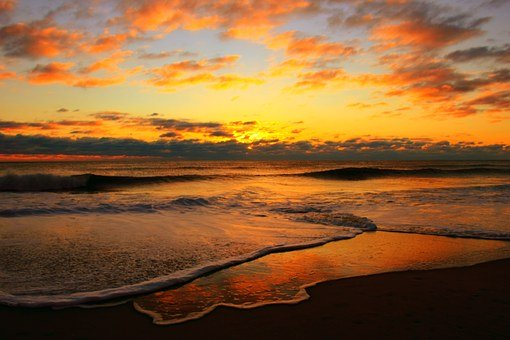sea: (8, 161, 507, 337)
sky: (4, 5, 509, 163)
